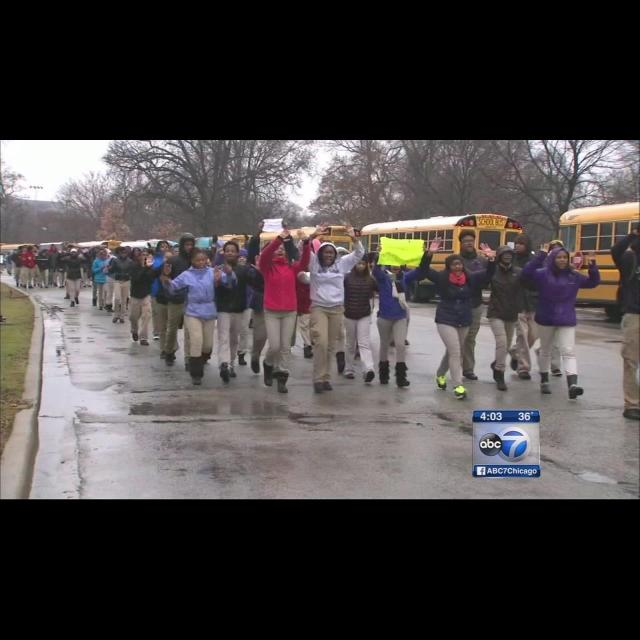head: (550, 248, 570, 272), (446, 255, 464, 277), (320, 242, 336, 266), (459, 231, 476, 253), (514, 234, 532, 254), (267, 242, 287, 260), (262, 243, 280, 263), (190, 250, 208, 270), (180, 233, 196, 255), (354, 253, 370, 274), (496, 247, 514, 265), (549, 241, 565, 261), (223, 243, 240, 261), (388, 257, 404, 275), (236, 251, 250, 267), (137, 251, 151, 265), (296, 240, 308, 256), (158, 240, 170, 254), (164, 251, 176, 265), (397, 260, 407, 272), (119, 247, 129, 259), (115, 247, 127, 257), (67, 245, 75, 255), (100, 252, 108, 260), (133, 248, 141, 256)
person: (517, 241, 603, 403), (418, 234, 500, 402), (294, 221, 370, 393), (159, 245, 241, 387), (468, 243, 544, 393), (478, 230, 550, 382), (145, 228, 215, 376), (255, 228, 315, 398), (201, 240, 269, 384), (242, 219, 302, 379), (373, 235, 433, 391), (439, 228, 497, 382), (533, 237, 585, 379), (211, 245, 263, 368), (329, 250, 376, 386), (143, 250, 187, 362), (279, 240, 319, 360), (140, 240, 183, 344), (377, 242, 415, 348), (125, 245, 163, 349), (107, 246, 139, 326), (54, 244, 90, 308), (101, 246, 131, 314), (91, 248, 115, 312), (61, 243, 81, 299), (127, 246, 145, 304)
